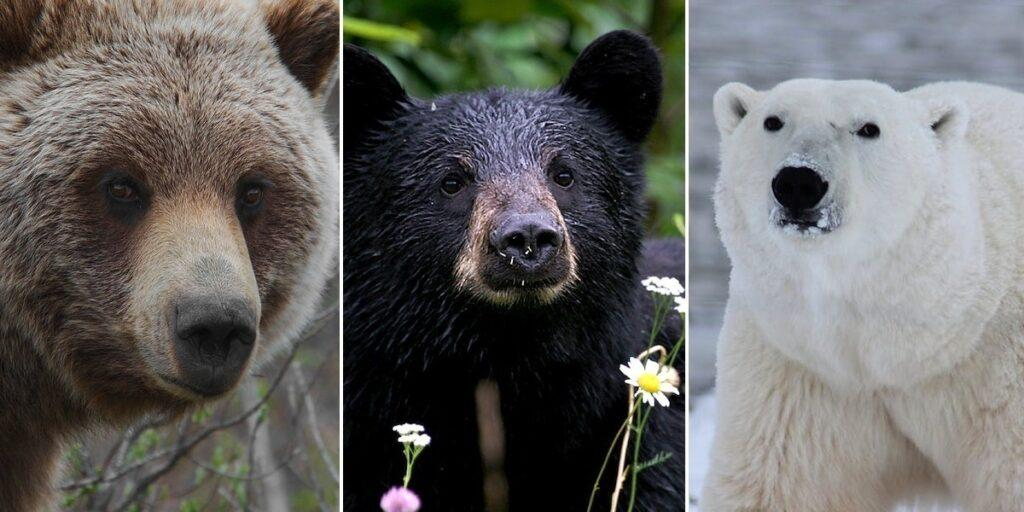goalkeeper: (702, 79, 1023, 511)
